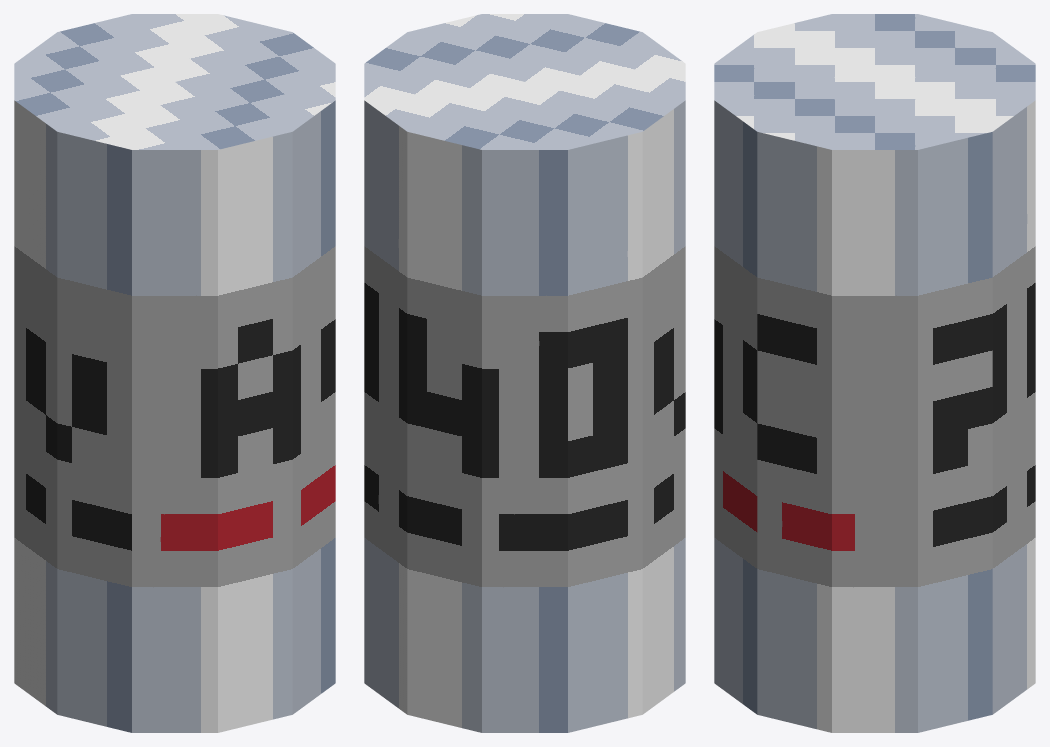
File: fuseONLY.gltf
3 views of the same model, side by side, from view 1: azimuth 30°, elevation 25°; view 2: azimuth 150°, elevation 25°; view 3: azimuth 270°, elevation 25° (orthographic).
Parts seen in each view (by area): view 1: fuse; view 2: fuse; view 3: fuse.
Boxes of the visible parts, <box> form: fuse: <box>14,14,335,732</box>; fuse: <box>364,14,685,732</box>; fuse: <box>714,14,1035,732</box>.
Bounding box in the file's own units: 0.25 × 0.5 × 0.25.
1 material, 1 textured.
